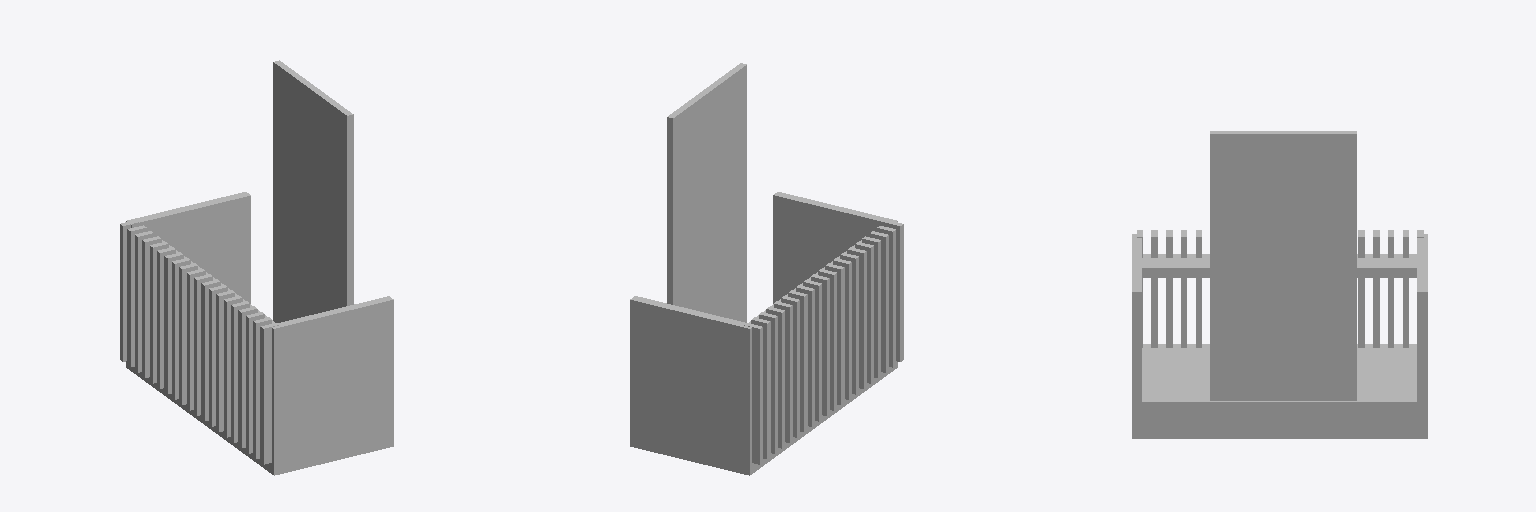
Rendered from balcony1.obj.
3 views of the same model, side by side, from view 1: azimuth 30°, elevation 25°; view 2: azimuth 150°, elevation 25°; view 3: azimuth 270°, elevation 25° (orthographic).
Parts seen in each view (by area): view 1: Cube.002; view 2: Cube.002; view 3: Cube.002.
Boxes of the visible parts, x1,y1,x2,y2 form: Cube.002: [120, 60, 393, 475]; Cube.002: [630, 63, 903, 475]; Cube.002: [1132, 131, 1427, 438].
Bounding box in the file's own units: 1 × 2.27 × 2.